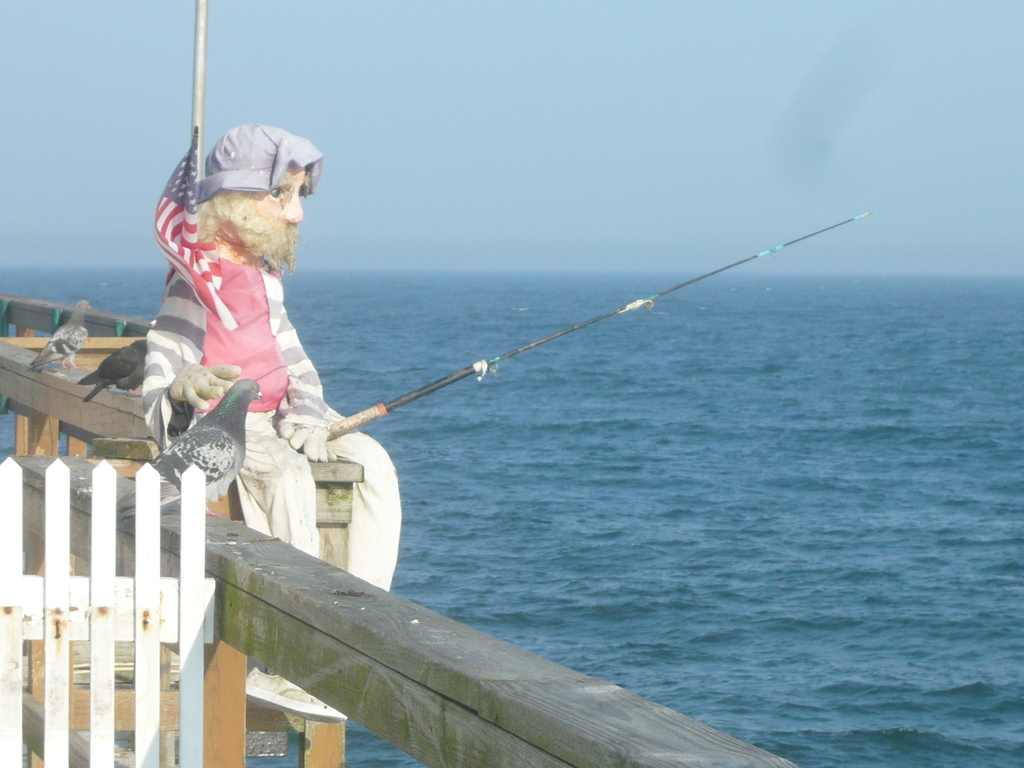Person: (142, 123, 401, 722)
